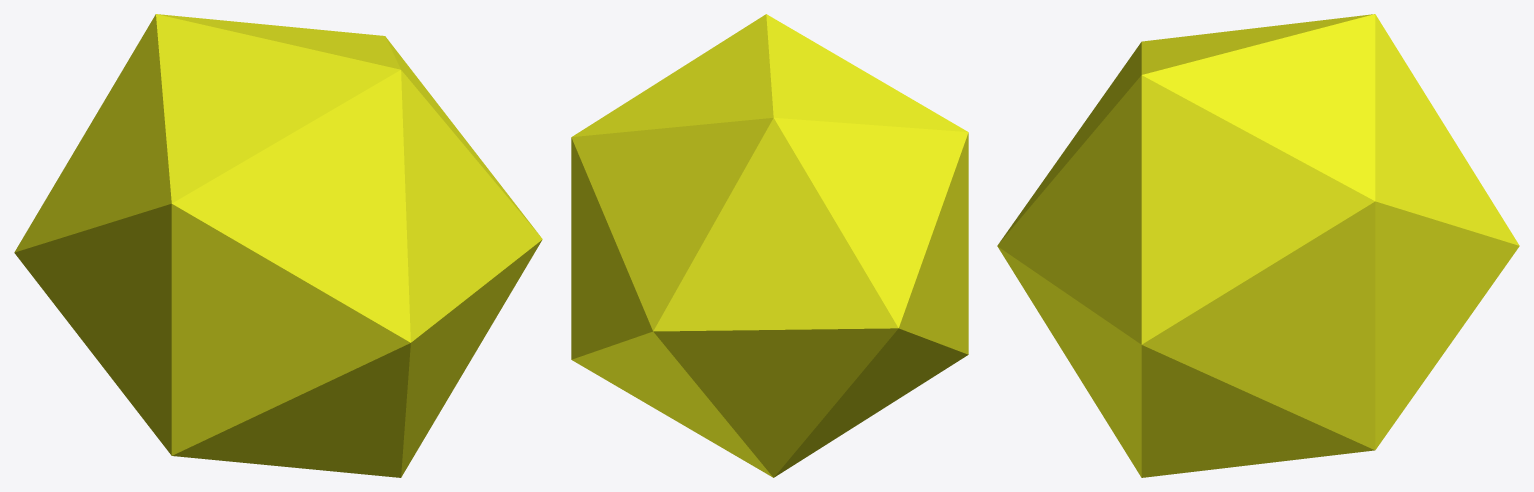
File: grape_parts002.obj
The picture shows the model from 3 angles, left to right: view 1: azimuth 30°, elevation 25°; view 2: azimuth 150°, elevation 25°; view 3: azimuth 270°, elevation 25°; orthographic projection. The views are drawn at different scales.
Visible parts, largest first — view 1: pasted__pPlatonic2 group1; view 2: pasted__pPlatonic2 group1; view 3: pasted__pPlatonic2 group1.
Boxes of the visible parts, x1,y1,x2,y2 form: pasted__pPlatonic2 group1: (14,14,542,477); pasted__pPlatonic2 group1: (571,14,968,477); pasted__pPlatonic2 group1: (997,14,1519,477).
Bounding box in the file's own units: 0.9228 × 0.8776 × 1.03.
Materials: 1 (1 with a texture image).
